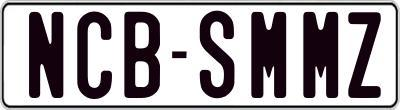B: (123, 11, 160, 100)
C: (77, 10, 118, 97)
M: (302, 10, 341, 102), (249, 10, 288, 101)
N: (29, 12, 69, 101)
S: (200, 9, 238, 99)
Z: (347, 11, 381, 100)
